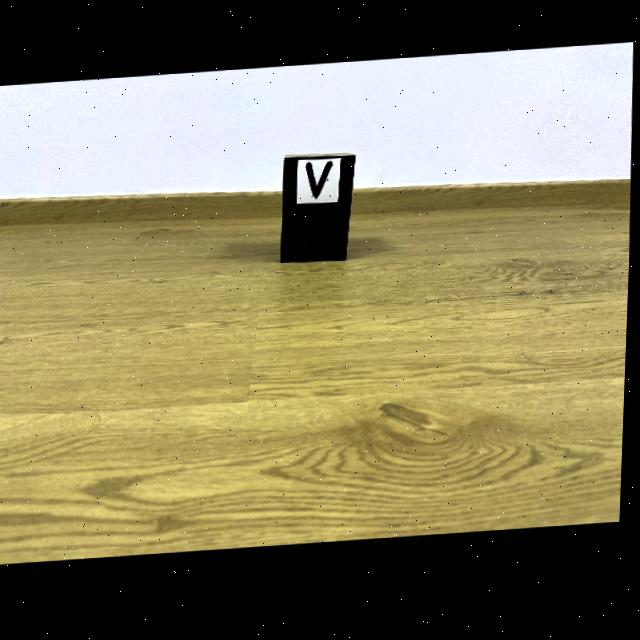V: (307, 166, 333, 201)
